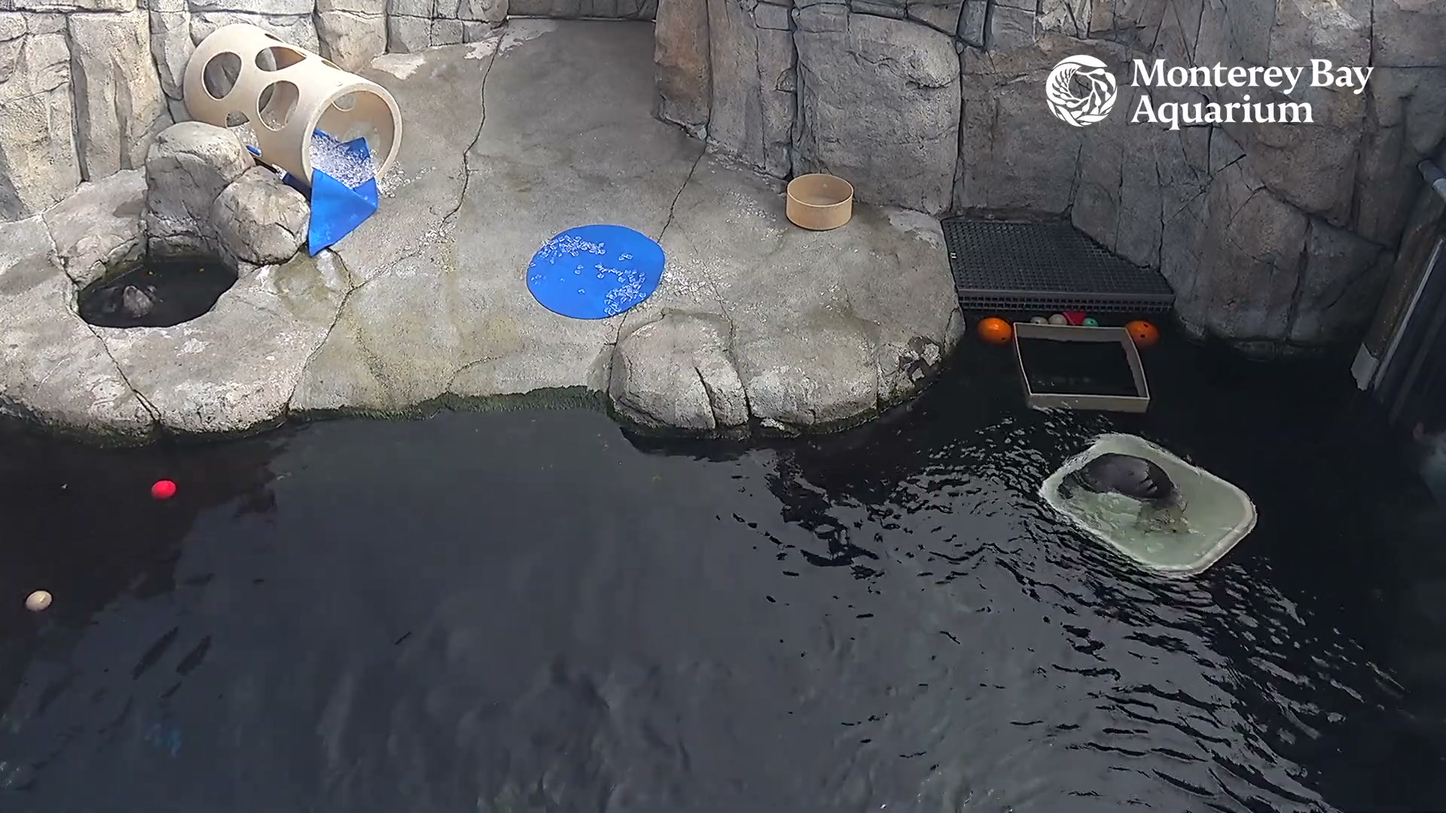Southern Sea Otter: (1058, 428, 1195, 552), (98, 283, 164, 329)
